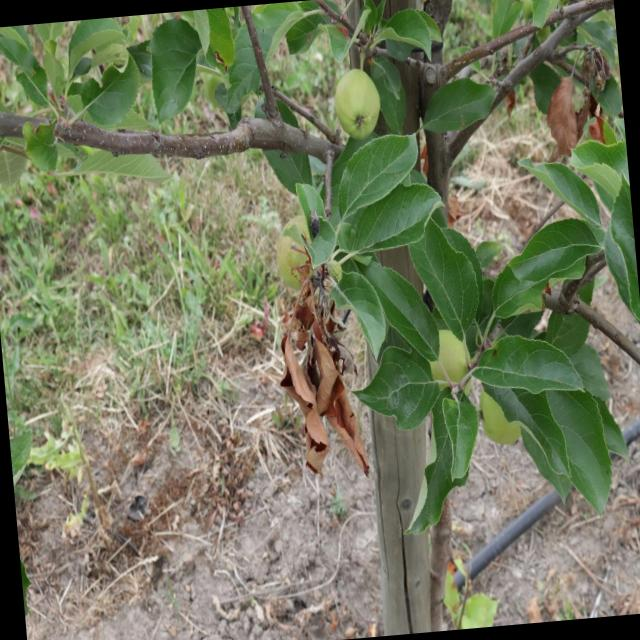-FireBlight-: (246, 283, 377, 480), (544, 70, 592, 156)
